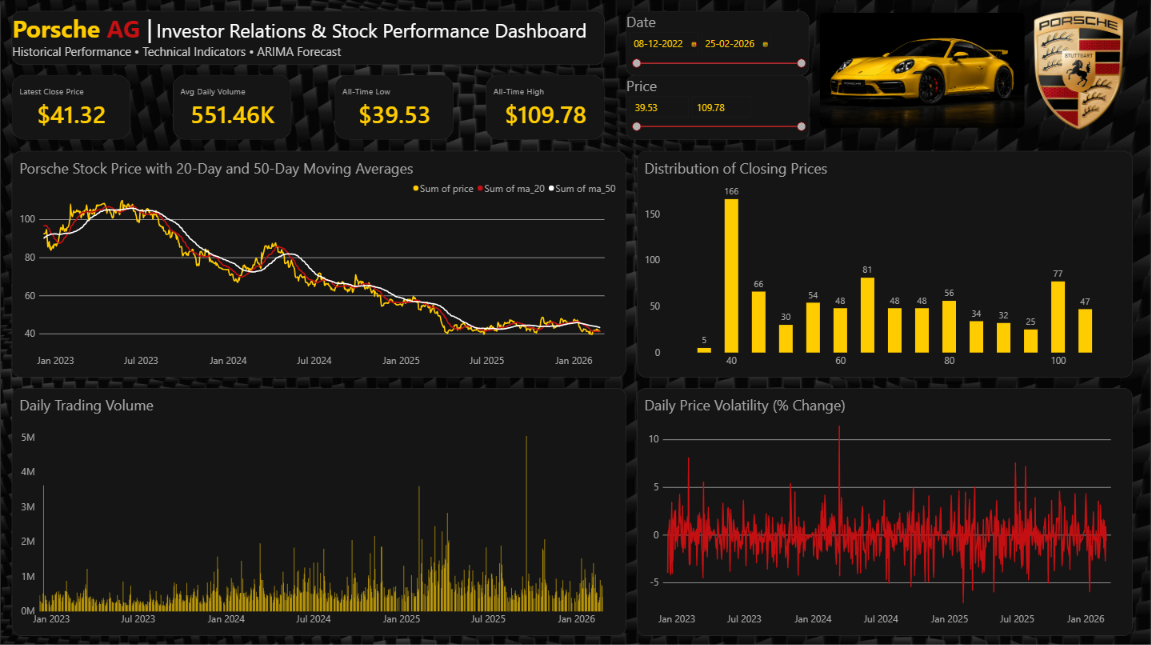

This screenshot's page, from the dashboard's own definition file:
{"tool":"powerbi","page":{"name":"Page 1","canvas":[2560,1440],"ordinal":0},"visuals":[{"type":"cardVisual","fields":{"Data":["porsche_stock_cleaned.Latest Close Price"]},"box":[24,168,264,144],"z":0},{"type":"cardVisual","fields":{"Data":["porsche_stock_cleaned.Avg Daily Volume"]},"box":[384,168,264,144],"z":1000},{"type":"cardVisual","fields":{"Data":["porsche_stock_cleaned.All-Time Low"]},"box":[744,168,264,144],"z":2000},{"type":"cardVisual","fields":{"Data":["porsche_stock_cleaned.All-Time High"]},"box":[1080,168,264,144],"z":3000},{"type":"lineChart","fields":{"Category":["porsche_stock_cleaned.date"],"Y":["Sum(porsche_stock_cleaned.price)","Sum(porsche_stock_cleaned.ma_20)","Sum(porsche_stock_cleaned.ma_50)"]},"box":[24,336,1368,504],"z":4000},{"type":"clusteredColumnChart","fields":{"Category":["porsche_stock_cleaned.date"],"Y":["Sum(porsche_stock_cleaned.volume)"]},"box":[24,864,1368,552],"z":5000},{"type":"clusteredColumnChart","fields":{"Category":["porsche_stock_cleaned.close (bins)"],"Y":["CountNonNull(porsche_stock_cleaned.price)"]},"box":[1416,336,1104,504],"z":6000},{"type":"slicer","title":" Date","fields":{"Values":["porsche_stock_cleaned.date"]},"box":[1392,24,408,144],"z":7000},{"type":"slicer","title":" Price","fields":{"Values":["porsche_stock_cleaned.price"]},"box":[1392,168,408,144],"z":8000},{"type":"areaChart","fields":{"Category":["porsche_stock_cleaned.date"],"Y":["Sum(porsche_stock_cleaned.daily_return)"]},"box":[1416,864,1104,552],"z":9000},{"type":"textbox","box":[24,24,1320,120],"z":10000},{"type":"image","box":[2280,24,240,264],"z":11000},{"type":"image","box":[1824,24,456,264],"z":12000}]}

Visuals, with their boxes in screenshot pixels (x1, y1, x2, y2), scaled from the page's 2560x1440 canvas onto the 1151x645 screenshot:
cardVisual - porsche_stock_cleaned.Latest Close Price: bbox(11, 75, 129, 140)
cardVisual - porsche_stock_cleaned.Avg Daily Volume: bbox(173, 75, 291, 140)
cardVisual - porsche_stock_cleaned.All-Time Low: bbox(335, 75, 453, 140)
cardVisual - porsche_stock_cleaned.All-Time High: bbox(486, 75, 604, 140)
lineChart - porsche_stock_cleaned.date x Sum(porsche_stock_cleaned.price): bbox(11, 150, 626, 376)
clusteredColumnChart - porsche_stock_cleaned.date x Sum(porsche_stock_cleaned.volume): bbox(11, 387, 626, 634)
clusteredColumnChart - porsche_stock_cleaned.close (bins) x CountNonNull(porsche_stock_cleaned.price): bbox(637, 150, 1133, 376)
" Date" slicer: bbox(626, 11, 809, 75)
" Price" slicer: bbox(626, 75, 809, 140)
areaChart - porsche_stock_cleaned.date x Sum(porsche_stock_cleaned.daily_return): bbox(637, 387, 1133, 634)
textbox: bbox(11, 11, 604, 64)
image: bbox(1025, 11, 1133, 129)
image: bbox(820, 11, 1025, 129)
